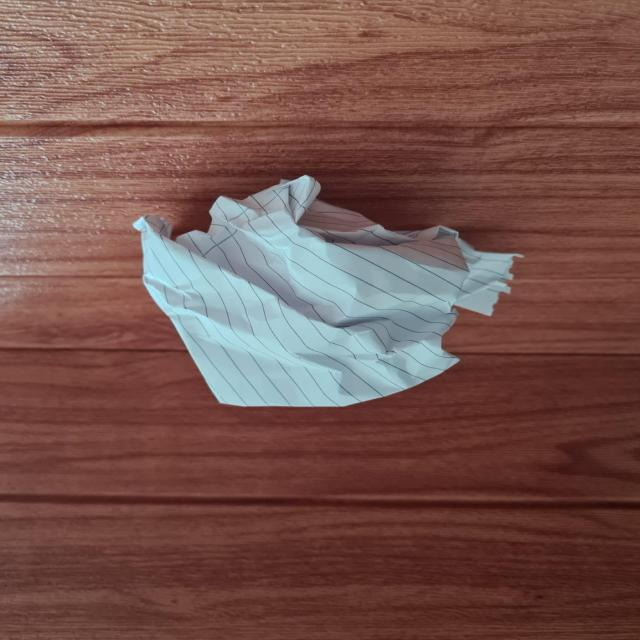kertas: (118, 178, 516, 410)
